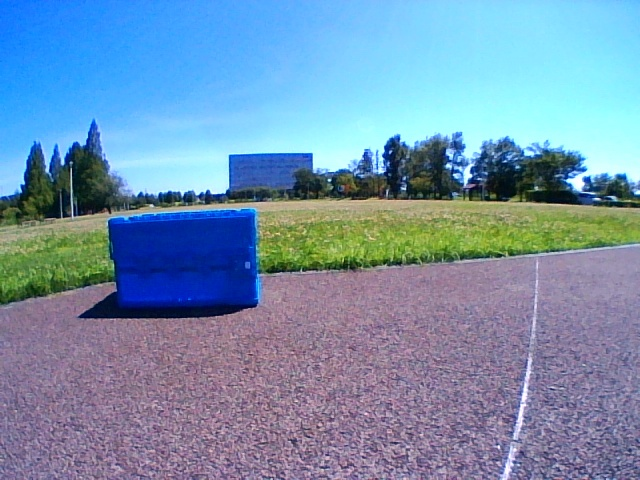blue_box: (108, 209, 258, 306)
